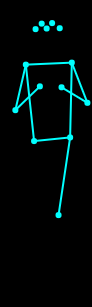tree: (7, 16, 92, 226)
